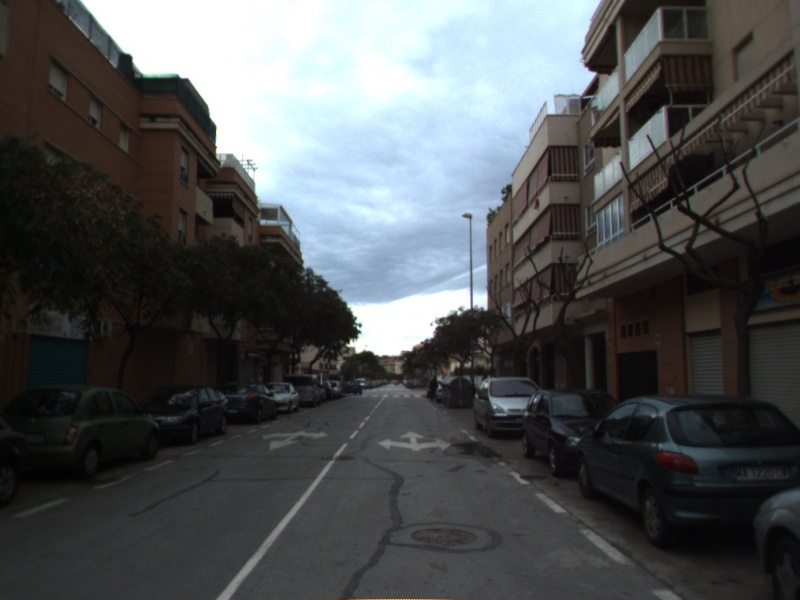STRAIGHT_LEFT_RIGHT: (375, 428, 455, 453)
